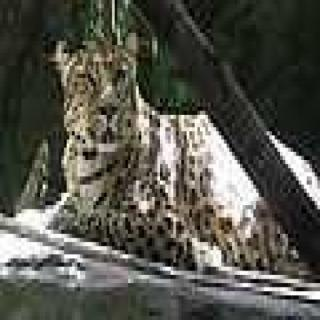Leopard: (27, 22, 320, 270)
